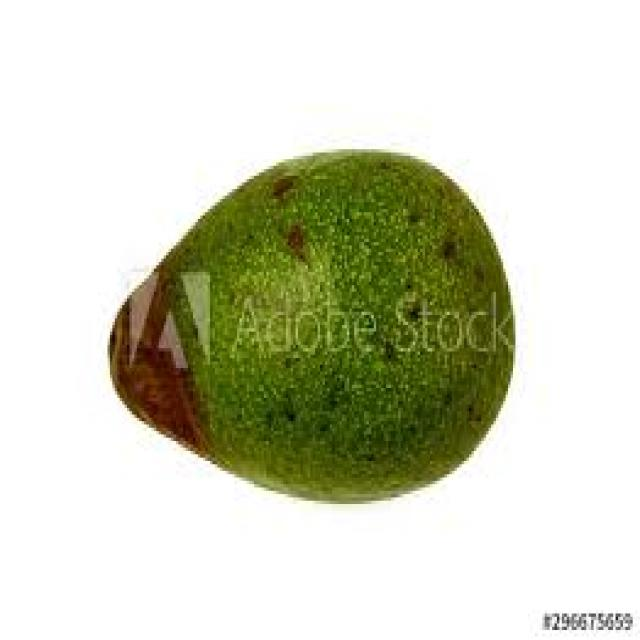organic waste: (105, 149, 513, 494)
